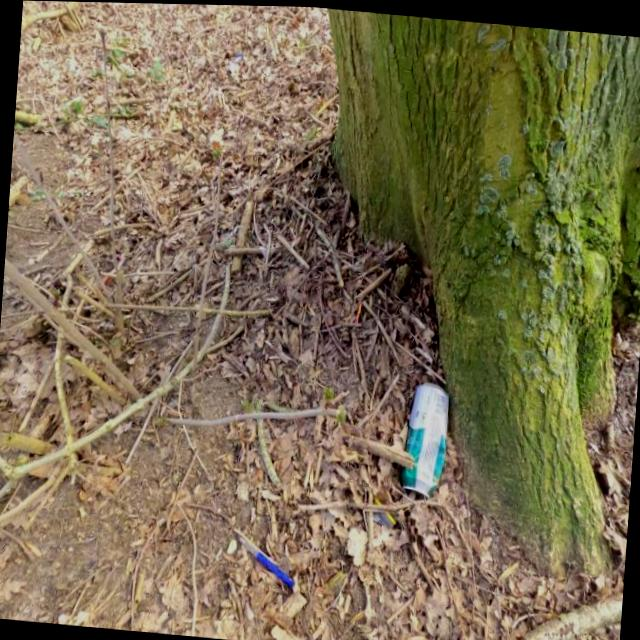Can-Metal: (395, 375, 451, 499)
Plastic: (369, 493, 397, 526), (101, 247, 124, 285)
